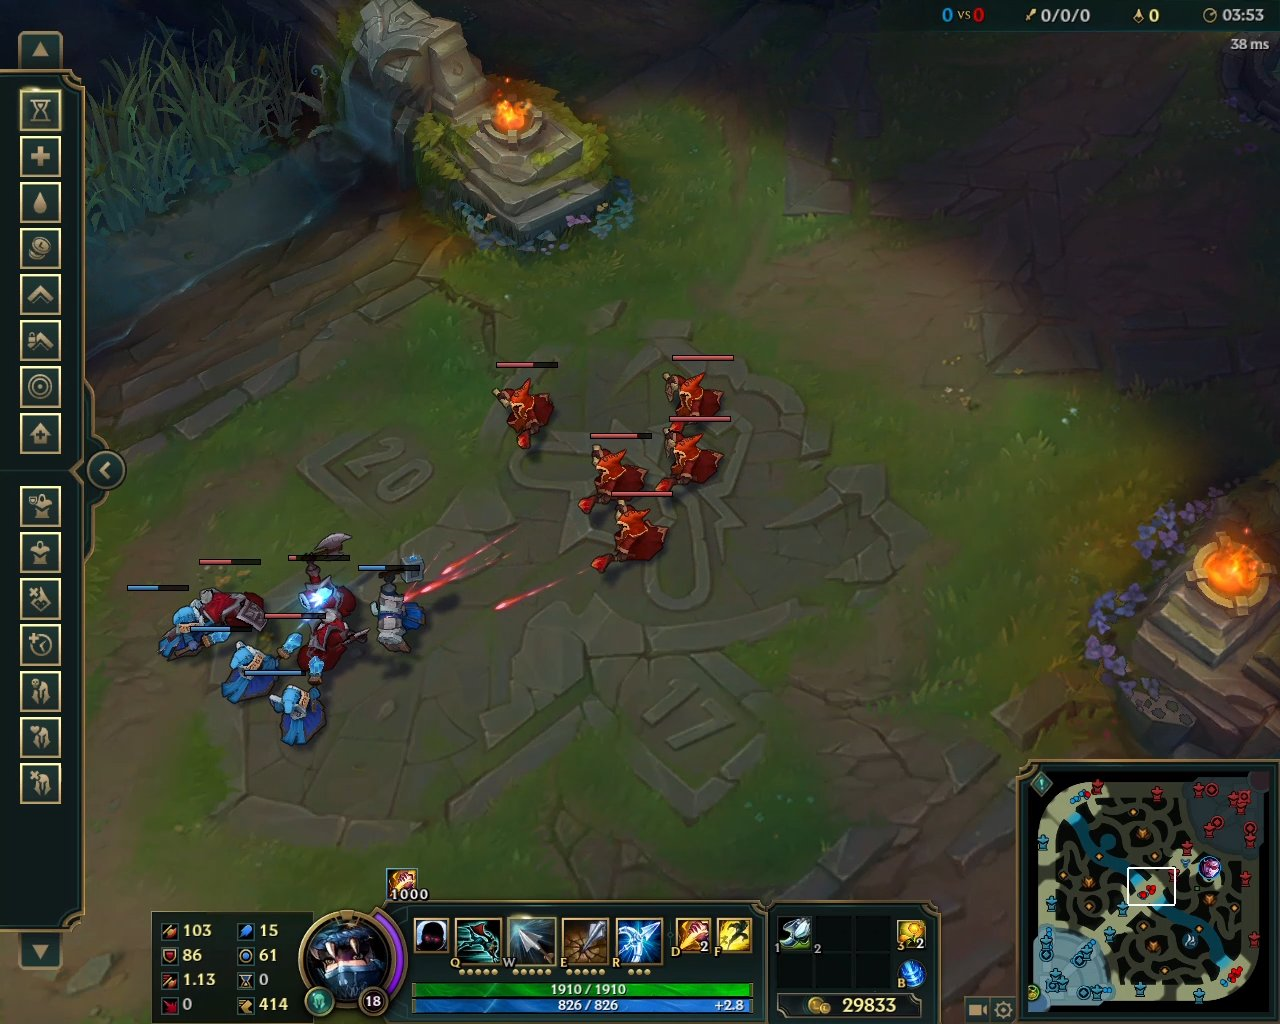EnemyMinion: (267, 608, 370, 681), (590, 490, 675, 576), (184, 554, 272, 635), (651, 414, 734, 497), (489, 359, 561, 453), (287, 533, 360, 624), (578, 432, 656, 512), (661, 353, 736, 427)
